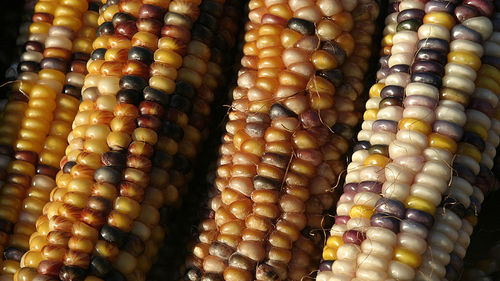corn: (13, 0, 225, 280), (188, 0, 375, 280), (318, 0, 499, 280)
